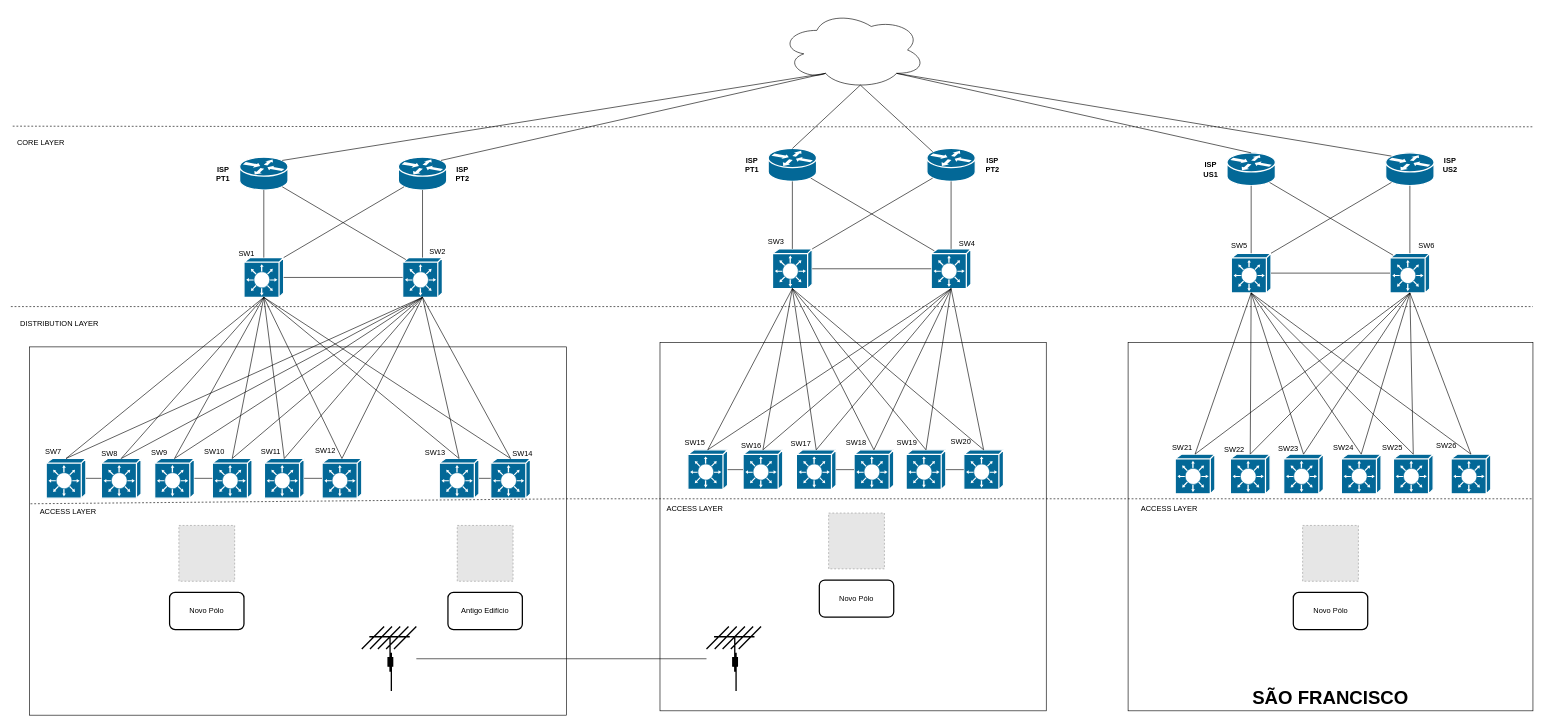
Some shapes in this 1544 by 726 pixel diagram are drawn without their labels. Grey dashed boxes stand in for pictures. The box of each missing label's shape, as (x1, y1, x2, y2) in pixels:
AVEIRO: (29, 346, 566, 715)
Internet: (780, 10, 926, 89)
LISBOA: (659, 342, 1046, 711)
